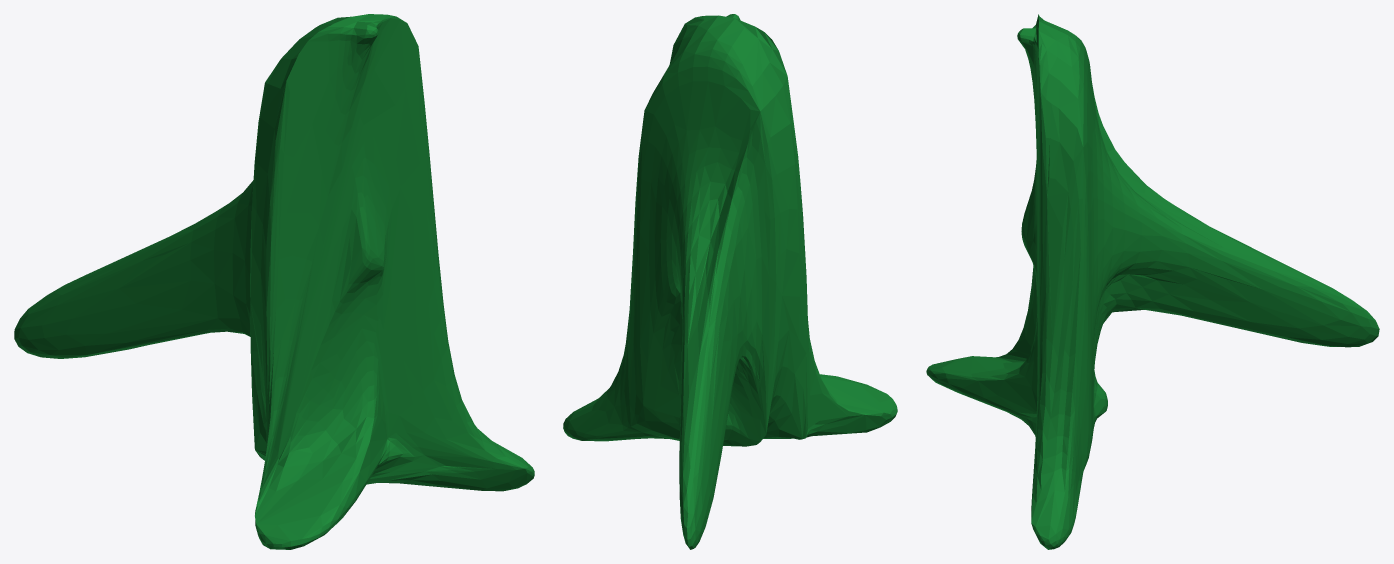
The picture shows the model from 3 angles, left to right: view 1: azimuth 30°, elevation 25°; view 2: azimuth 150°, elevation 25°; view 3: azimuth 270°, elevation 25°; orthographic projection. The views are drawn at different scales.
Parts seen in each view (by area): view 1: 827_Cube.3332; view 2: 827_Cube.3332; view 3: 827_Cube.3332.
Part boxes in pixels (x1,y1,x2,y2): 827_Cube.3332: [14, 14, 534, 549]; 827_Cube.3332: [563, 14, 897, 549]; 827_Cube.3332: [926, 14, 1379, 549].
Bounding box in the file's own units: 8.7 × 12.91 × 11.73.
